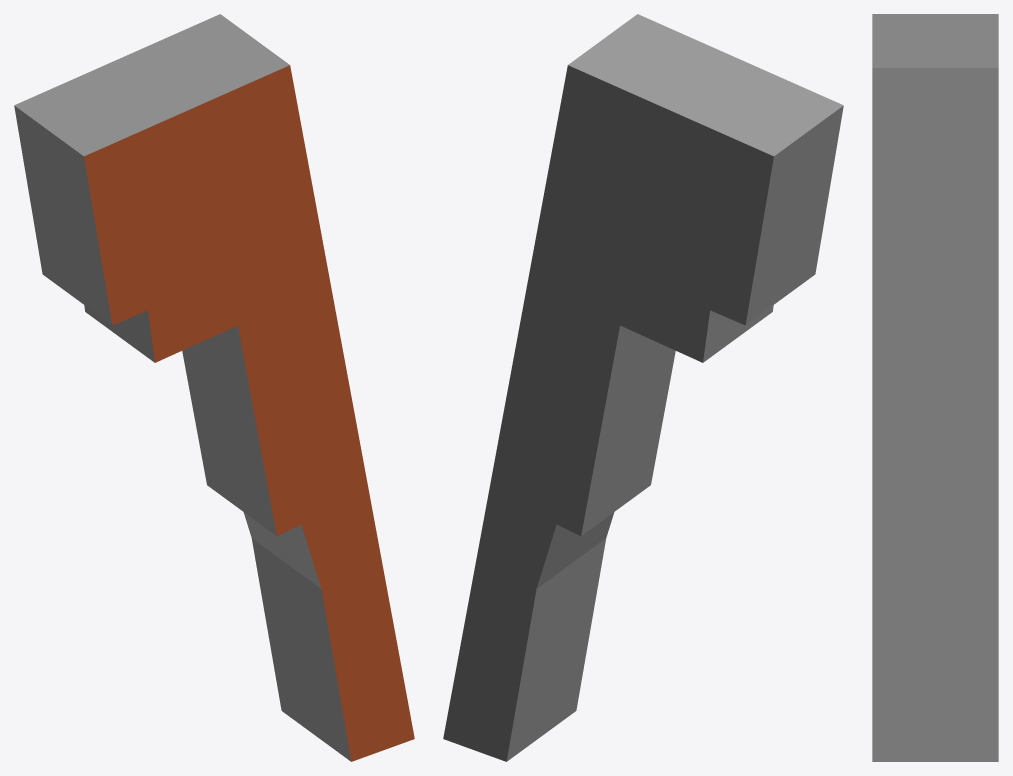
Rendered from construction_5884_assumed_A_Casa_h6m.obj.
3 renders of one model, left to right at view 1: azimuth 30°, elevation 25°; view 2: azimuth 150°, elevation 25°; view 3: azimuth 270°, elevation 25°, orthographic. The views are drawn at different scales.
Visible parts, largest first — view 1: construction_5884_assumed_A_Casa; view 2: construction_5884_assumed_A_Casa; view 3: construction_5884_assumed_A_Casa.
Boxes of the visible parts, box(x1,y1,x2,y2) form: construction_5884_assumed_A_Casa: box(14, 14, 414, 761); construction_5884_assumed_A_Casa: box(443, 14, 843, 761); construction_5884_assumed_A_Casa: box(872, 14, 998, 761).
Size of the model in its own units: 16.42 by 33.75 by 6.
